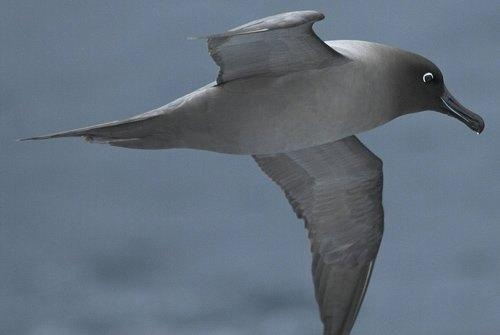bird: (18, 8, 481, 332)
